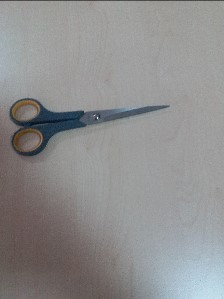scissors: (6, 95, 169, 161)
